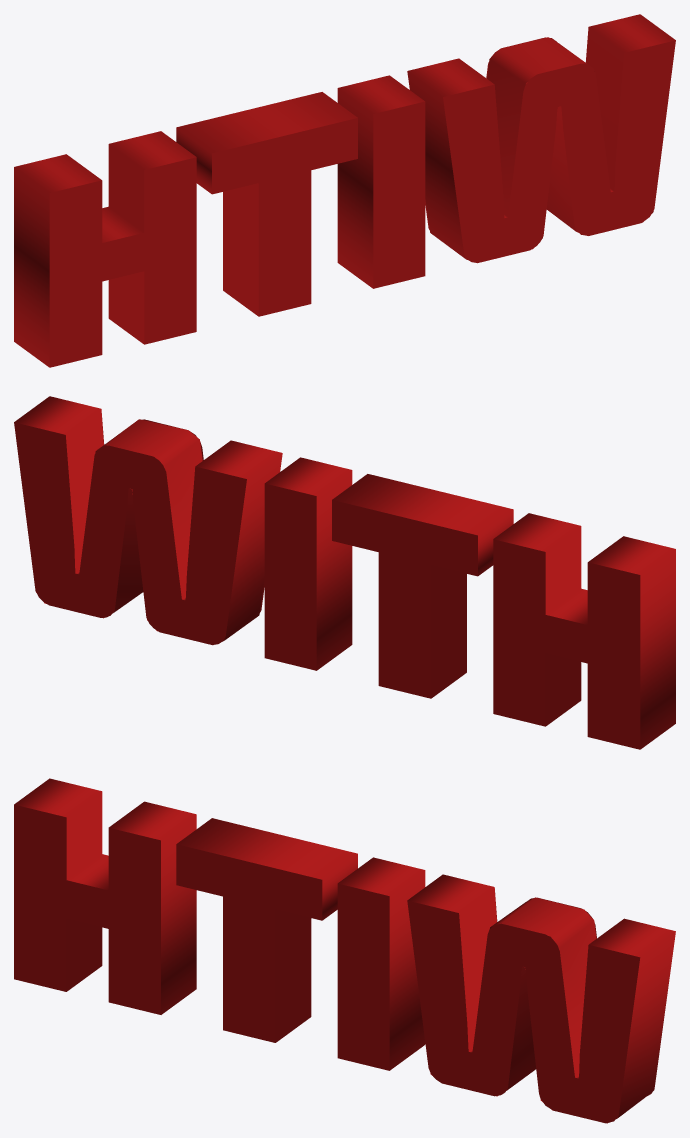
The model's file is with.fbx.
3 views of the same model, one above another, from view 1: azimuth 30°, elevation 25°; view 2: azimuth 150°, elevation 25°; view 3: azimuth 330°, elevation 25° (orthographic).
Visible parts, largest first — view 1: Text; view 2: Text; view 3: Text.
Part boxes in pixels (<box>): Text: <box>14,14,675,367</box>; Text: <box>14,396,675,749</box>; Text: <box>14,778,675,1123</box>.
Size of the model in its own units: 8.11 by 2.16 by 0.8.
